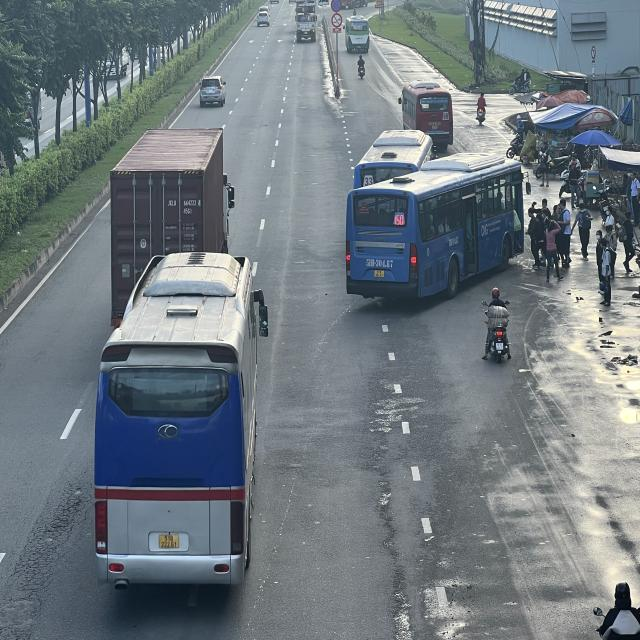car: (594, 607, 640, 640), (200, 76, 227, 108)
coach: (93, 253, 269, 593), (346, 156, 530, 306), (351, 130, 433, 209), (401, 83, 455, 149), (346, 16, 370, 54)
container: (110, 125, 236, 326)
truck: (294, 2, 316, 44)
